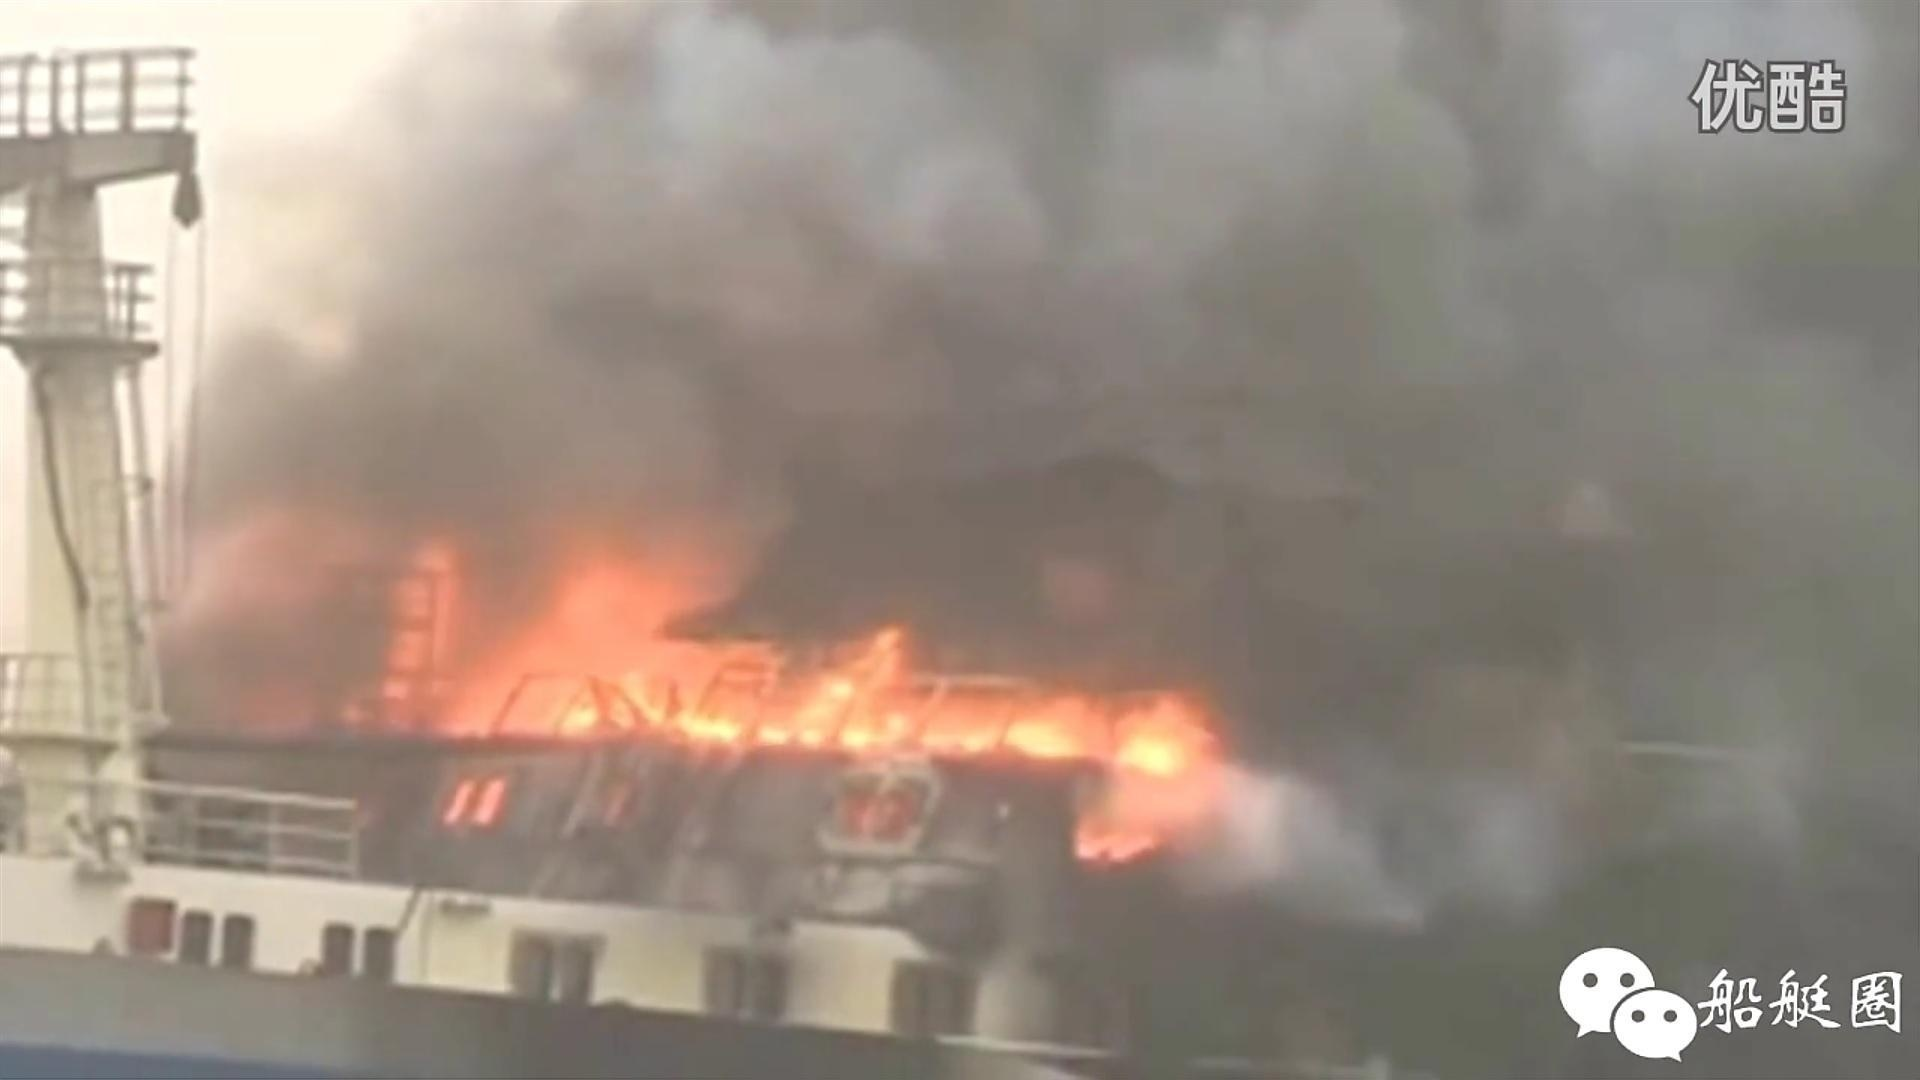fire: (460, 618, 1232, 778)
